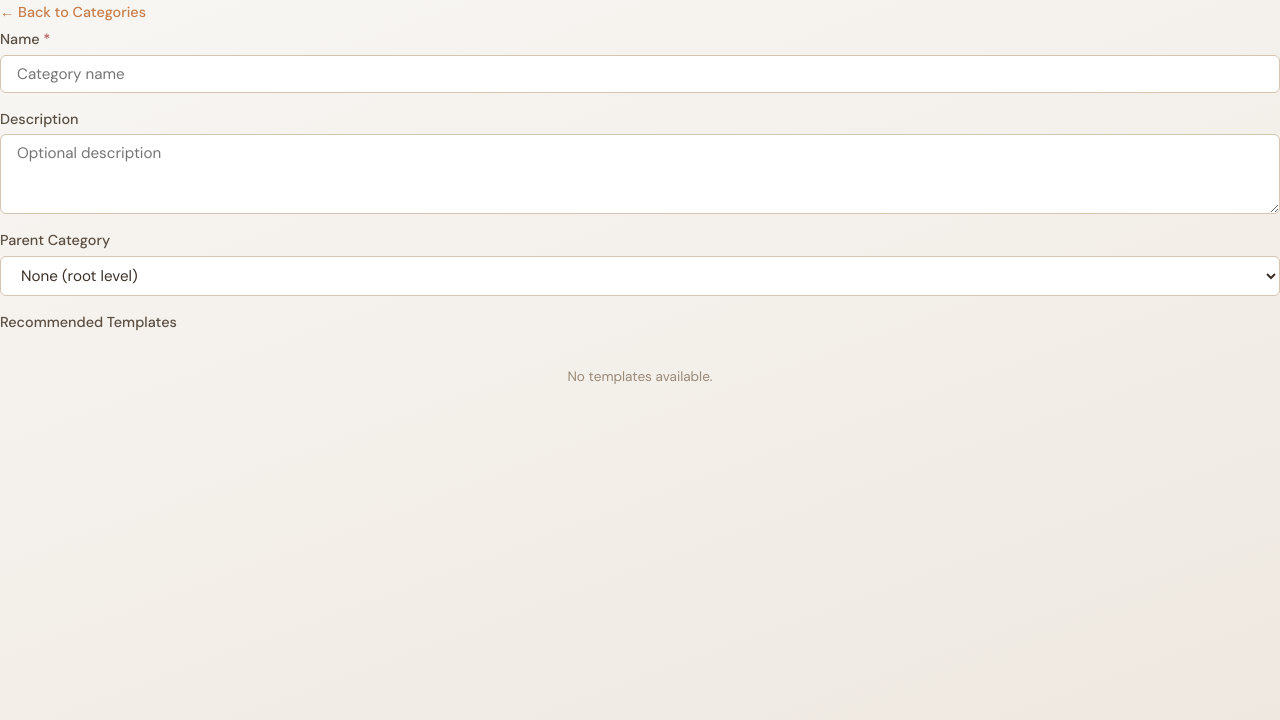
CategoryManagerForm › validation › should validate reserved name case-insensitively on submit
The width and height of the screenshot is (1280, 720).
Type "UNASSIGNED ITEMS" into the field labelled "Name *".
click(640, 74); type("UNASSIGNED ITEMS")  # box [0,55,1279,93]
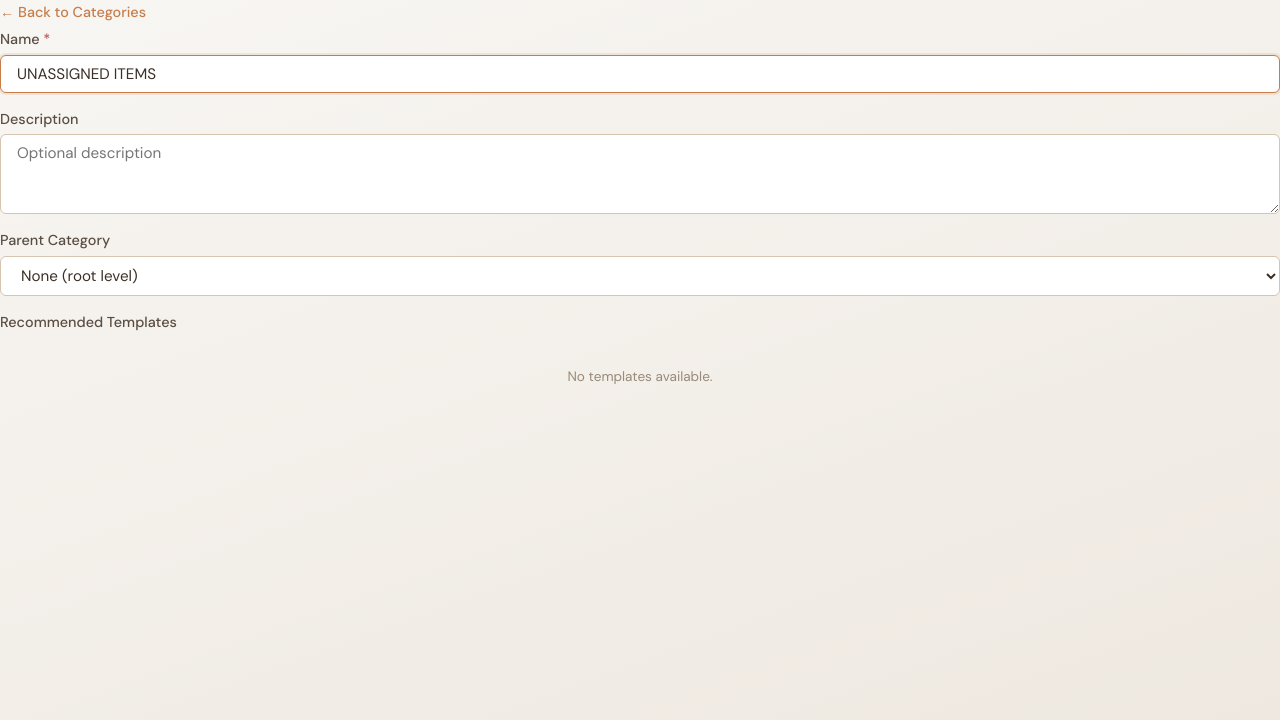
Submit the form named "Category details", box [0,29,1279,417]
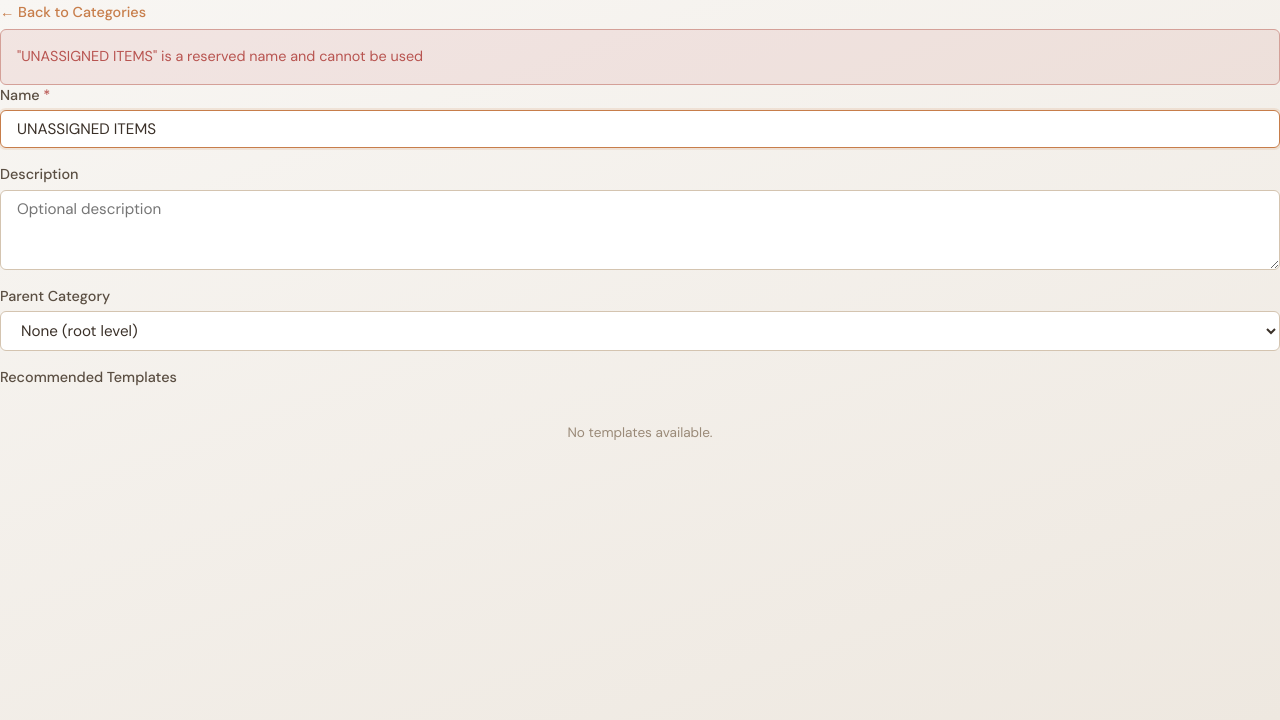
Expected: the message shows "reserved name", [17,47,423,65]
